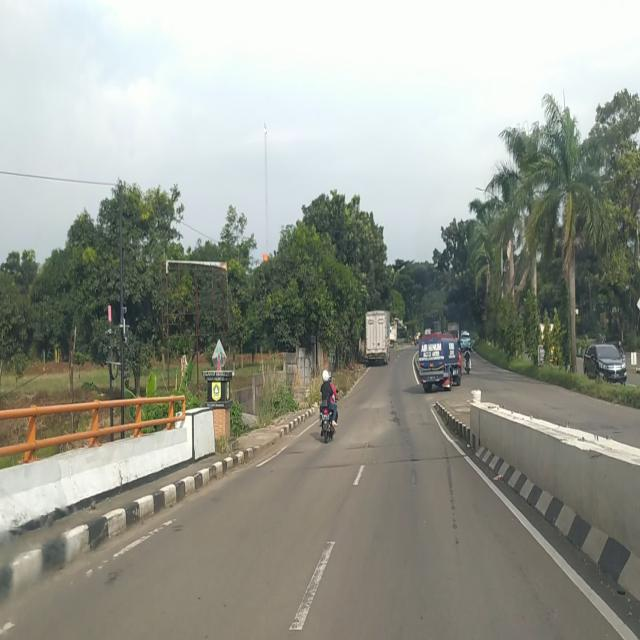Sewer Cover: (303, 454, 462, 467), (344, 445, 380, 449), (280, 452, 303, 455)
